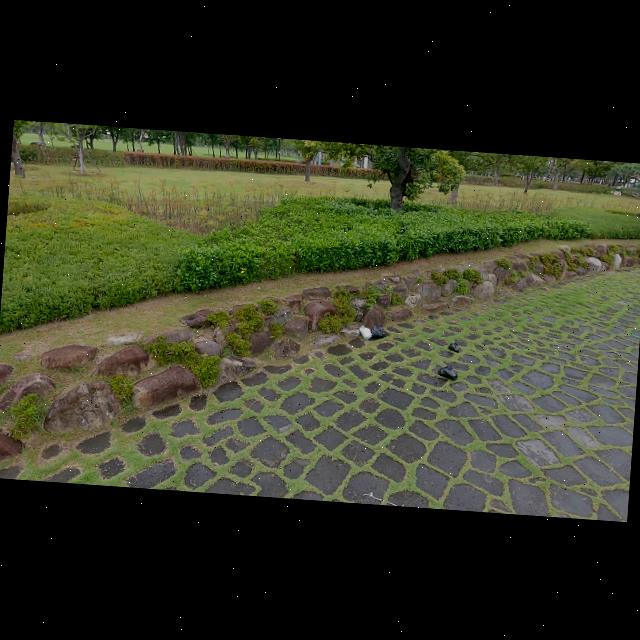trash: (434, 360, 461, 384), (370, 321, 387, 339), (446, 339, 462, 354), (358, 323, 373, 339)
